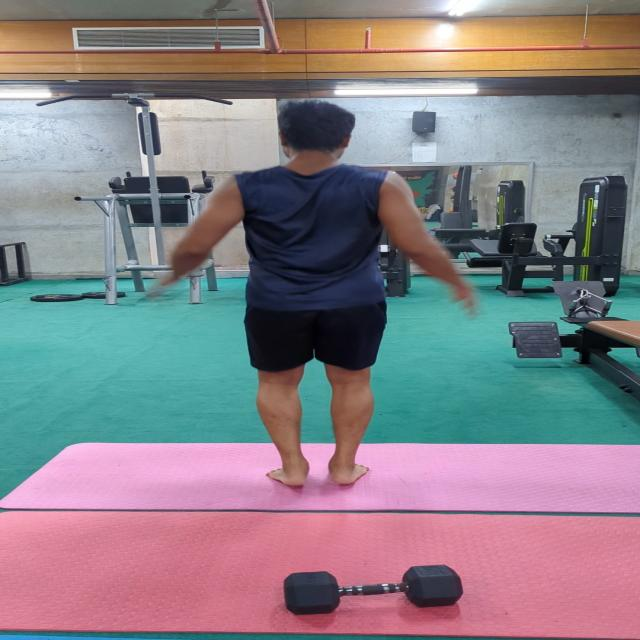Normal_JumpingJacks: (134, 94, 508, 494)
